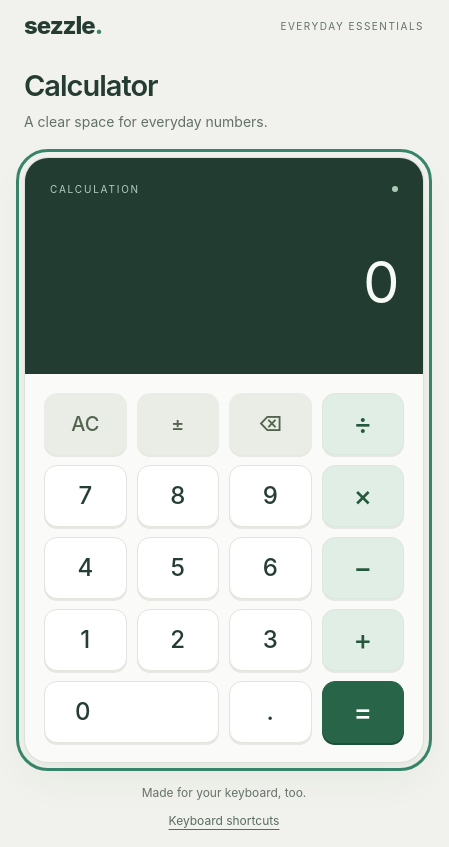
Test: Clear aborts and ignores a late success during a newer request
The width and height of the screenshot is (449, 847).
Type keys "1+2="
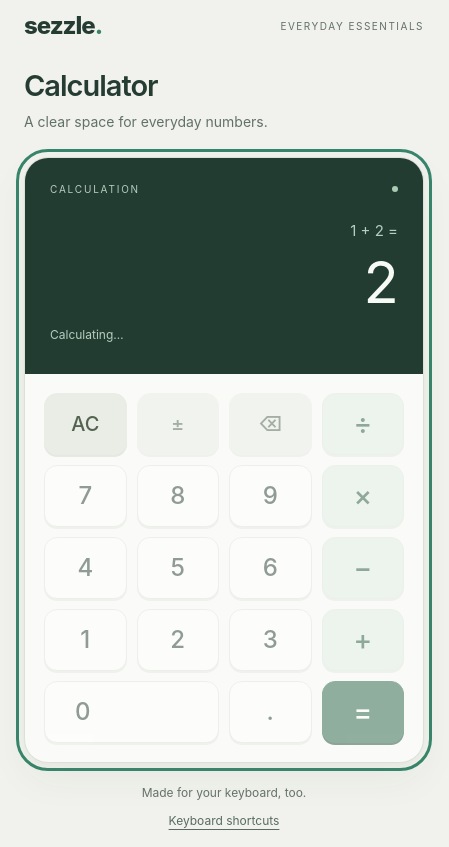
Click the button with aria-label "All clear".
click(85, 424)  # box [44,393,126,455]
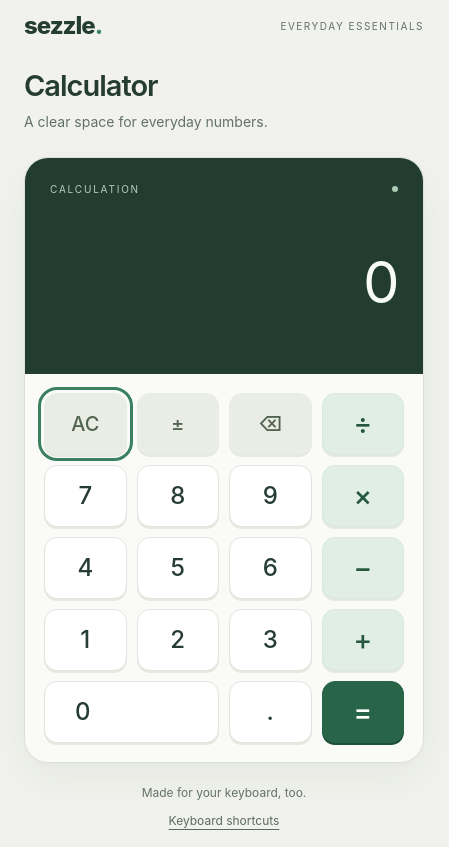
Check: the text named "Result" reads "0", box [362,247,398,317]
Type keys "4+5="
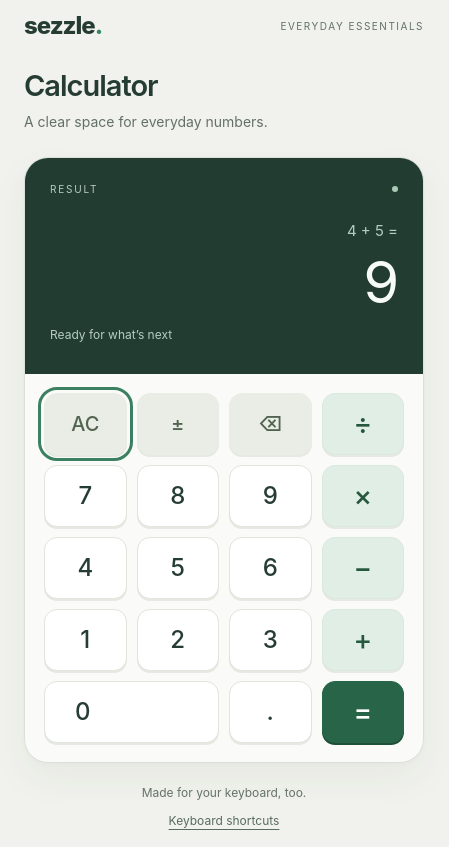
Check: the text "Calculating…" is shown, box [50,327,172,342]
Check: the text named "Result" reads "9", box [362,247,398,317]
